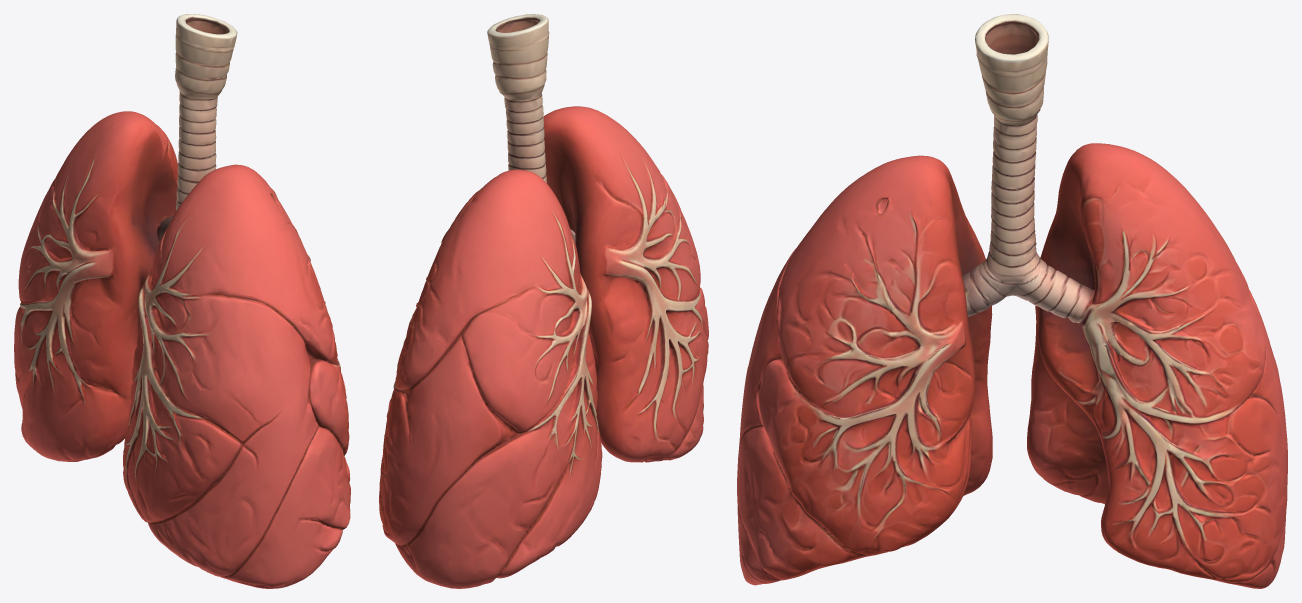
The model's file is 96098b24-9ddb-4430-a2e8-a80d6f8704fe.glb.
The picture shows the model from 3 angles, left to right: view 1: azimuth 30°, elevation 25°; view 2: azimuth 150°, elevation 25°; view 3: azimuth 270°, elevation 25°; orthographic projection. The views are drawn at different scales.
Visible parts, largest first — view 1: tripo_node_9d515756-647e-4957-a750-00e033a715a5; view 2: tripo_node_9d515756-647e-4957-a750-00e033a715a5; view 3: tripo_node_9d515756-647e-4957-a750-00e033a715a5.
Part boxes in pixels (x1,y1,x2,y2): tripo_node_9d515756-647e-4957-a750-00e033a715a5: (14,14,350,588); tripo_node_9d515756-647e-4957-a750-00e033a715a5: (379,14,708,588); tripo_node_9d515756-647e-4957-a750-00e033a715a5: (737,14,1287,588).
Size of the model in its own units: 0.4077 by 1 by 0.8739.
Materials: 1 (1 with a texture image).
